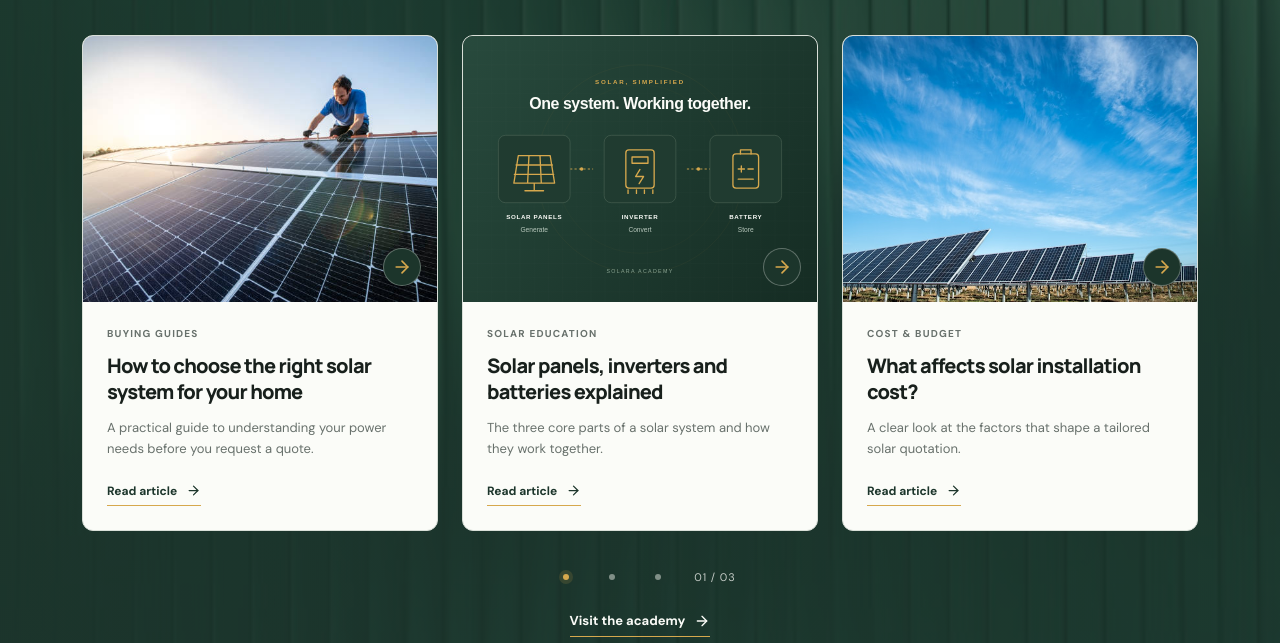
Scenario: academy carousel › handles horizontal swipes but ignores vertical page-scrolling gestures
This screenshot has width=1280, height=643.
(page scrolled)
Press the mouse on the element named "Academy articles" at [640, 283], box [76, 29, 1204, 537]
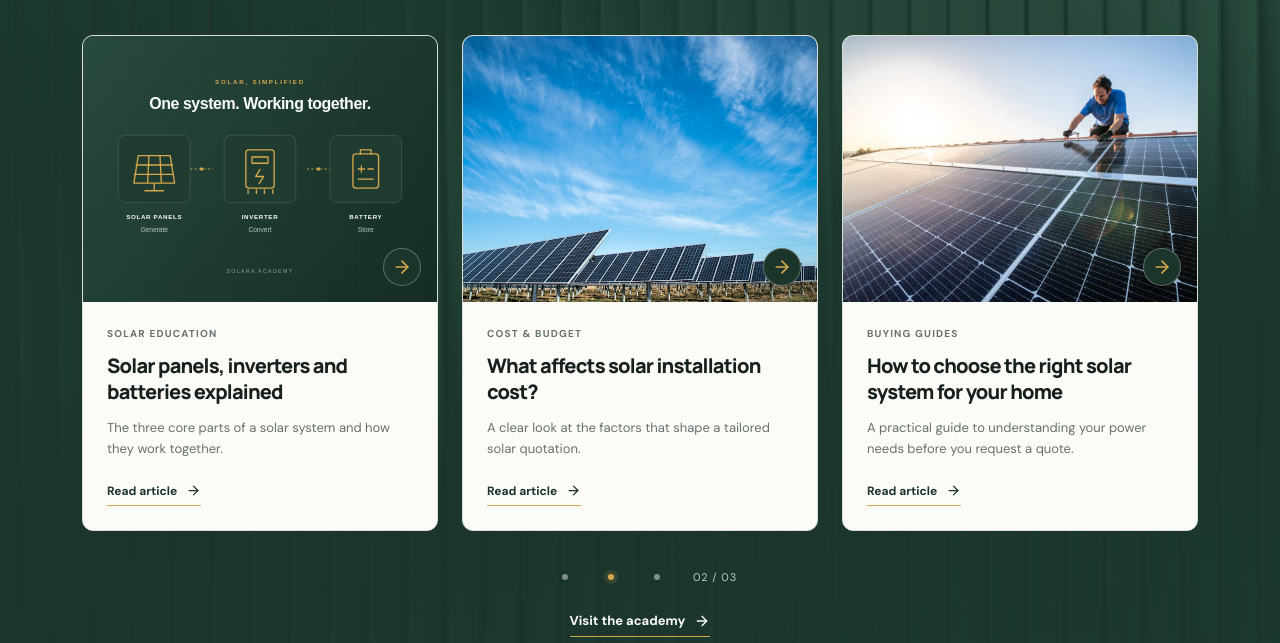
Check: the heading "Solar panels, inverters and batteries explained" is shown, box [107, 352, 347, 405]
Press the mouse on the element named "Academy articles" at [640, 283], box [76, 29, 1204, 537]
Check: the heading "Solar panels, inverters and batteries explained" is shown, box [107, 352, 347, 405]
Press the mouse on the element named "Academy articles" at [640, 283], box [76, 29, 1204, 537]
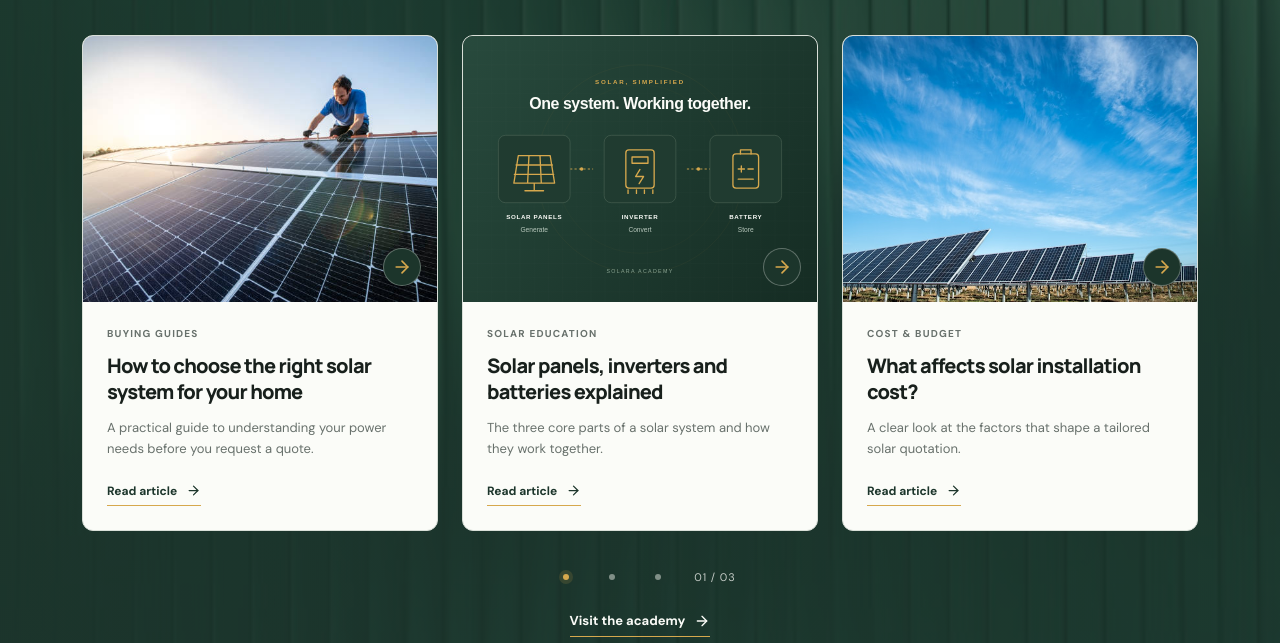
Check: the heading "How to choose the right solar system for your home" is shown, box [107, 353, 413, 405]
